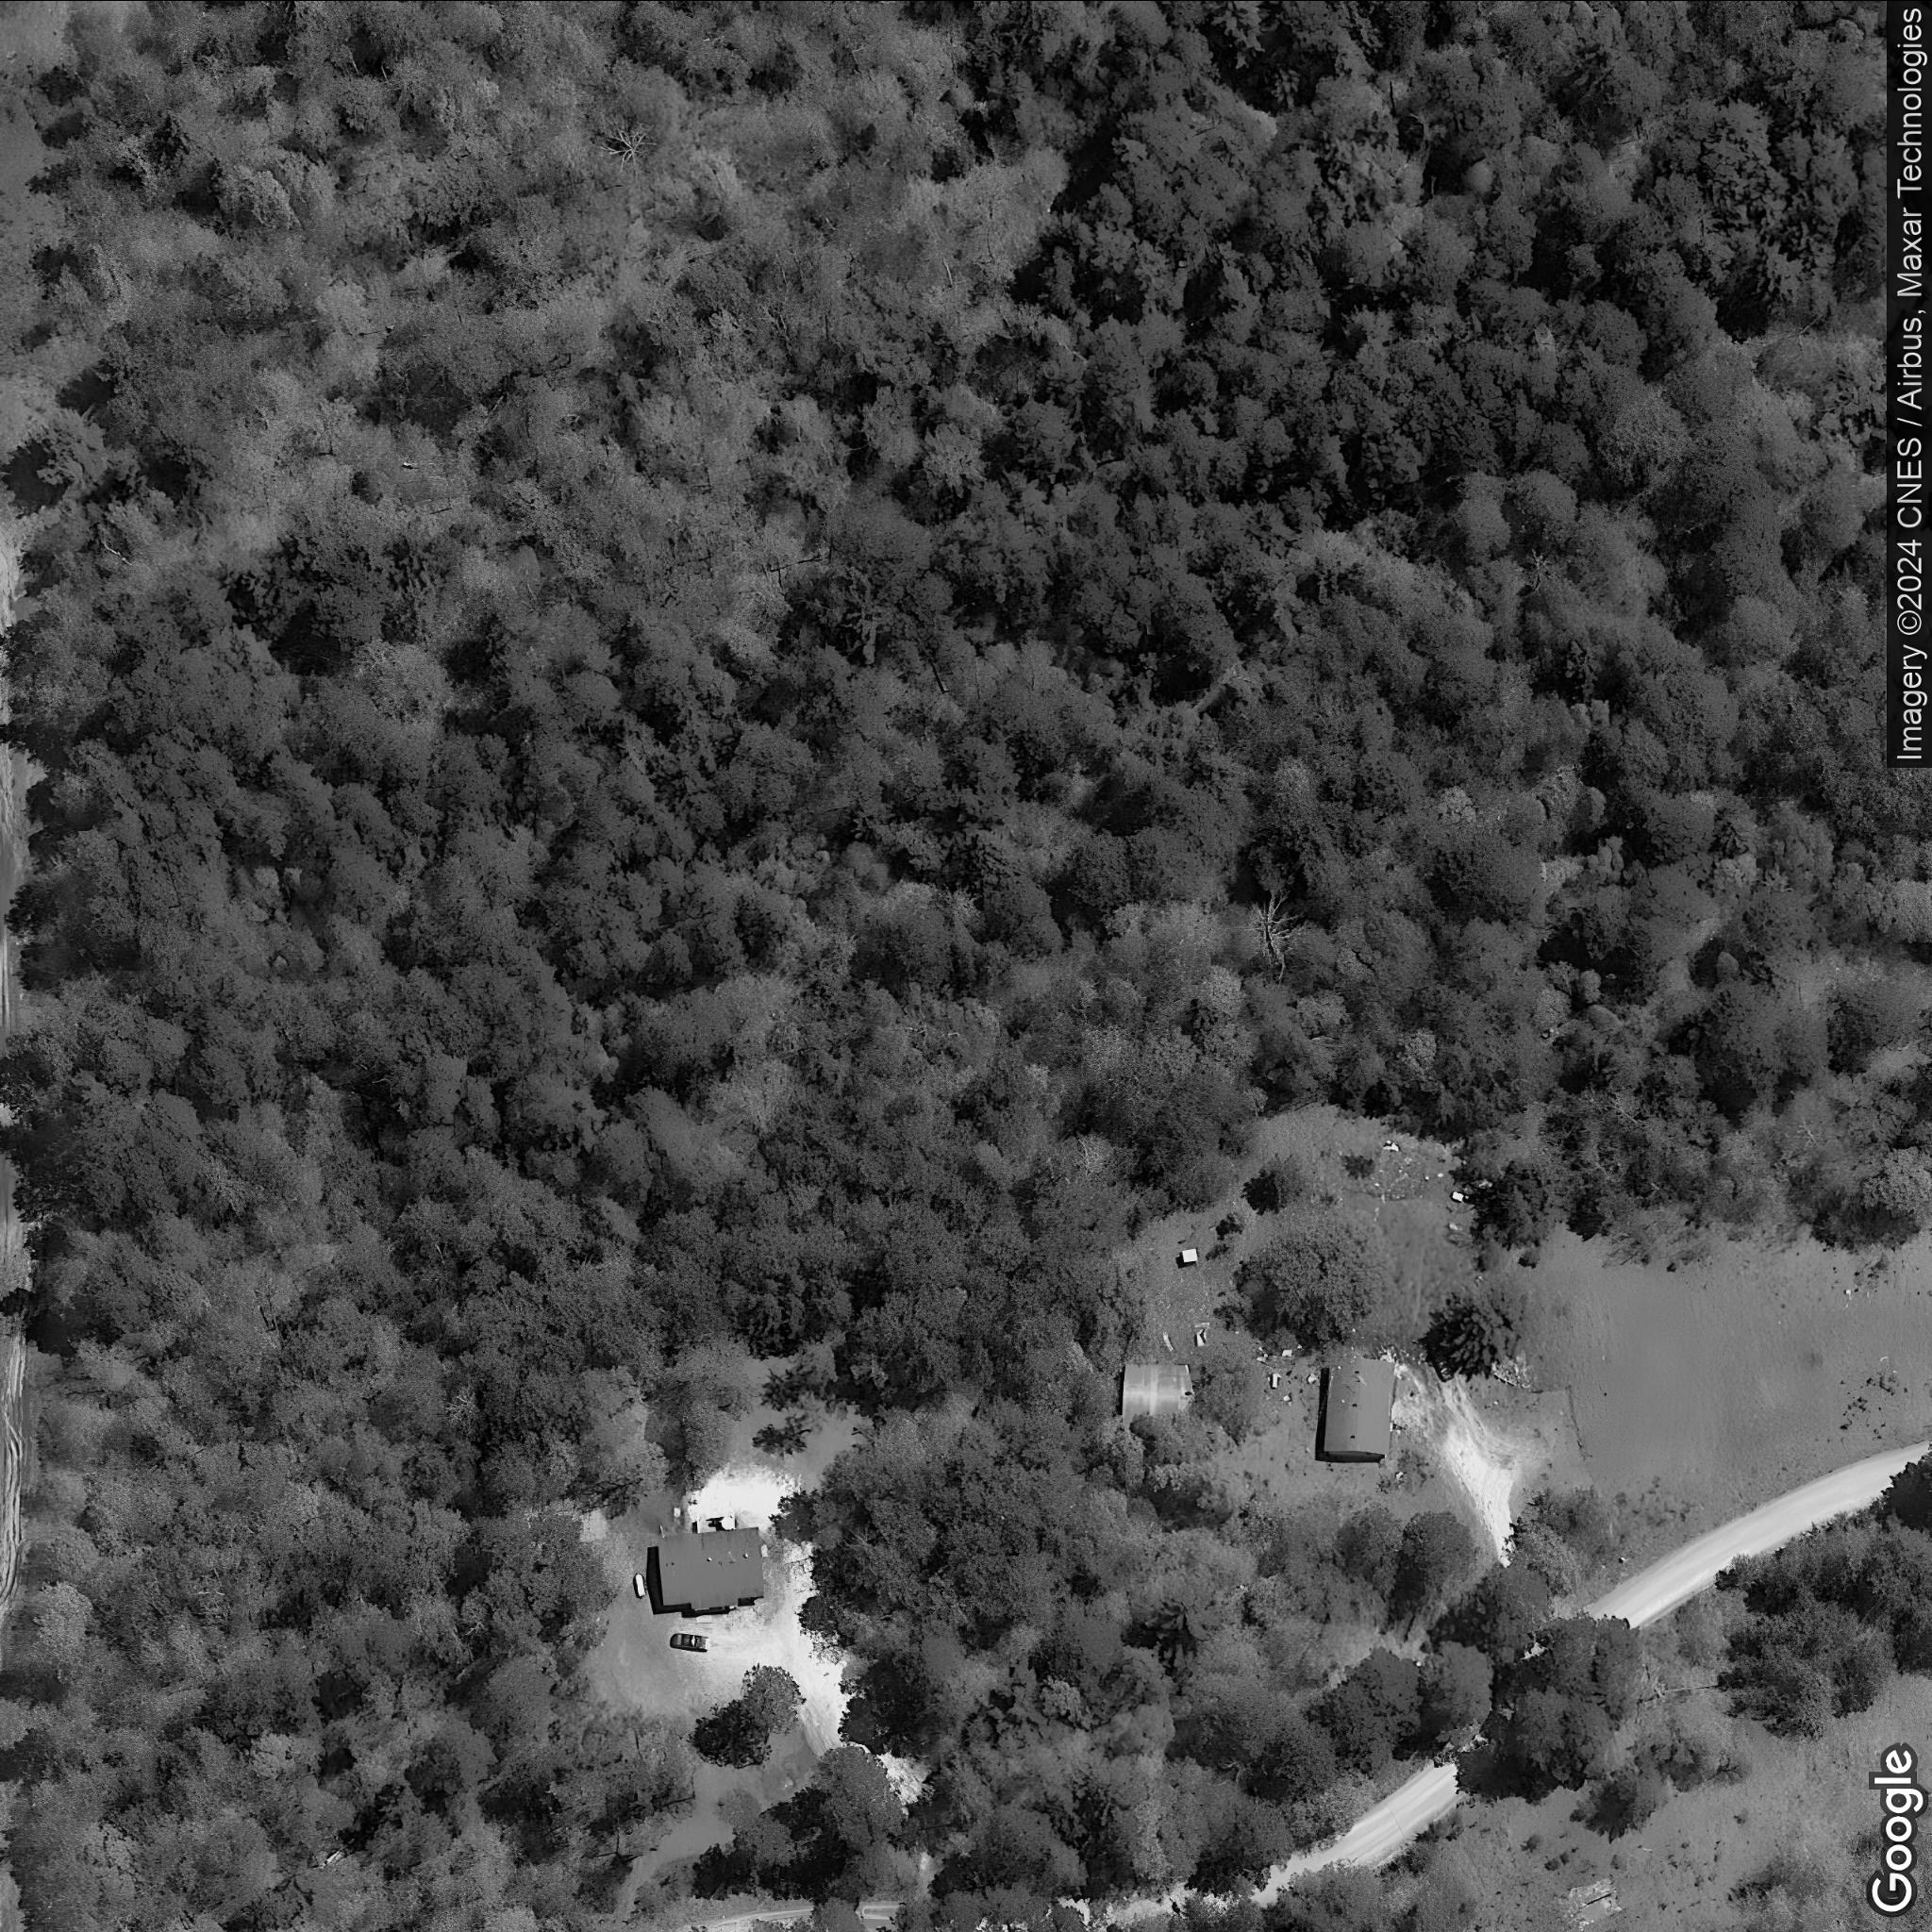Garage: (1120, 1361, 1196, 1424)
House: (656, 1523, 764, 1610), (1323, 1353, 1398, 1463)
Propane: (630, 1571, 648, 1599)
